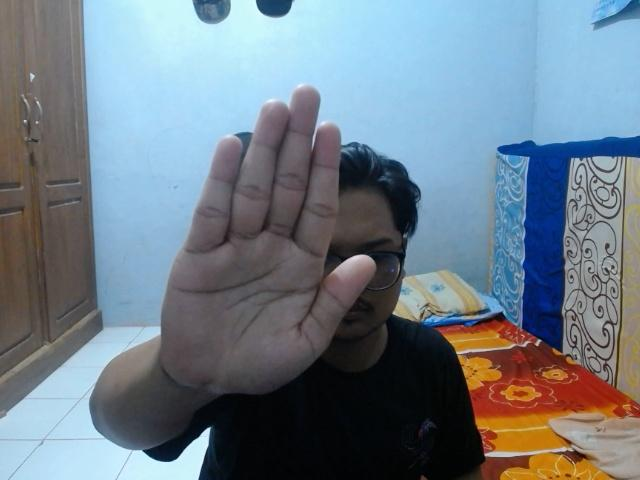Release: (156, 78, 383, 404)
